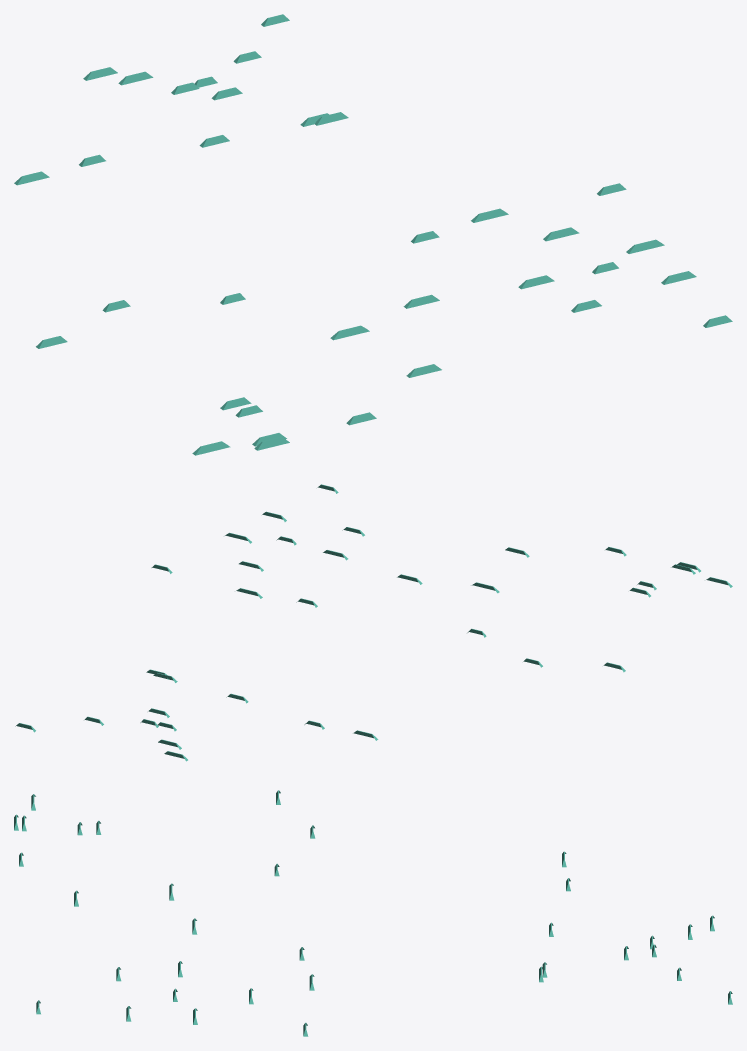
File: waves.glb
3 views of the same model, one above another, from view 1: azimuth 30°, elevation 25°; view 2: azimuth 150°, elevation 25°; view 3: azimuth 270°, elevation 25° (orthographic). The views are drawn at different scales.
Visible parts, largest first — view 1: Waves; view 2: Waves; view 3: Waves.
Part boxes in pixels (x1,y1,x2,y2): Waves: (14, 14, 732, 455); Waves: (15, 484, 732, 761); Waves: (14, 790, 732, 1036).
Bounding box in the file's own units: 8.05 × 0.08 × 10.04.
